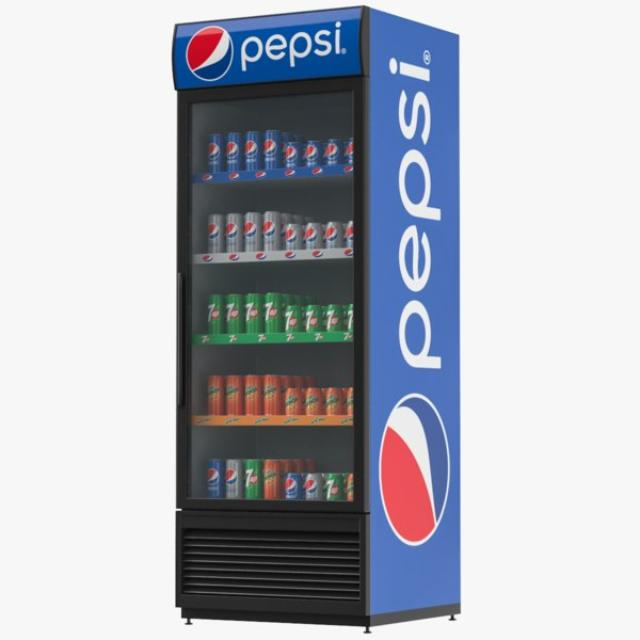Cooling-Display: (161, 4, 491, 634)
